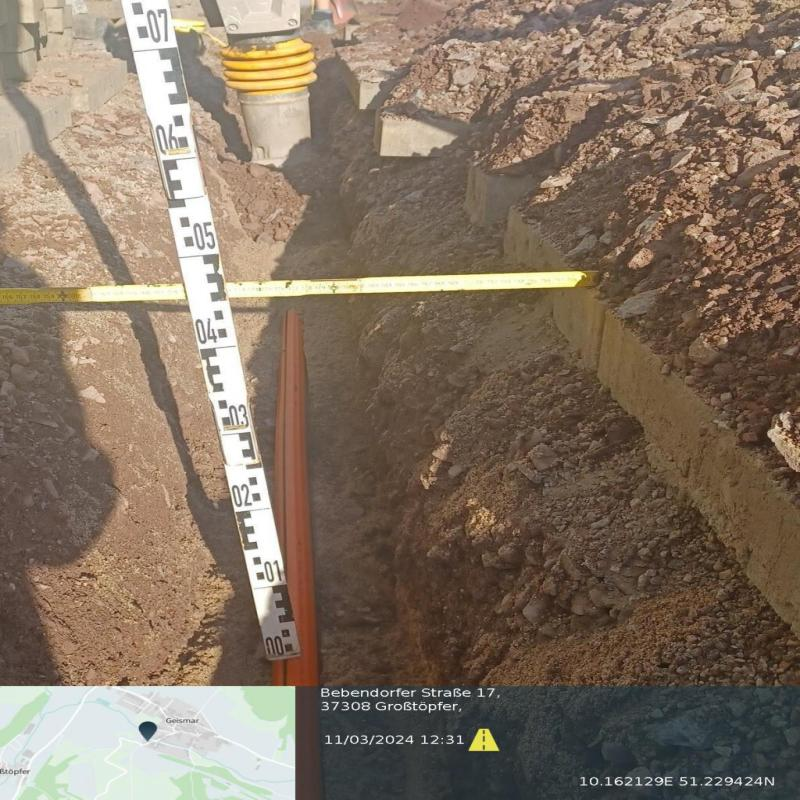Orang-Speednetrohrchen: (271, 307, 318, 689)
